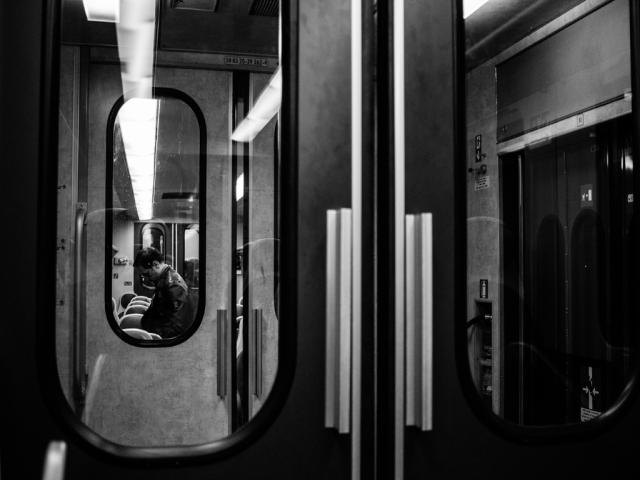Door-handle: (70, 203, 88, 413), (212, 302, 228, 398), (252, 306, 266, 396)
